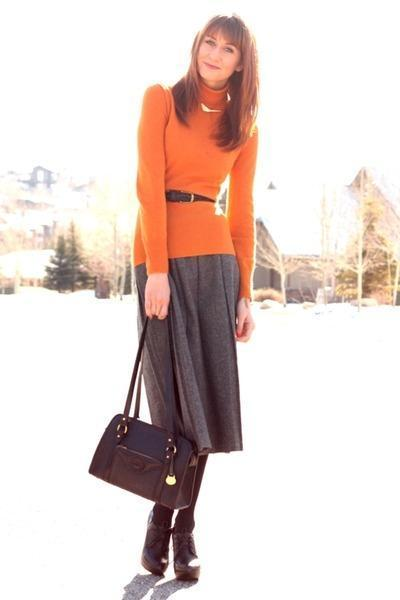bag: (89, 372, 205, 507)
jacket: (134, 78, 257, 299)
shoe: (142, 522, 199, 586)
skirt: (135, 254, 242, 537)
